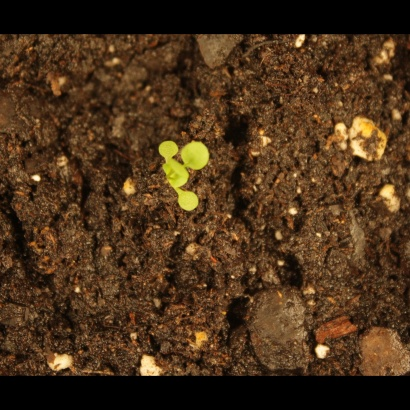leaf: (180, 138, 212, 173), (161, 161, 190, 190), (172, 190, 203, 214), (156, 136, 179, 159)
